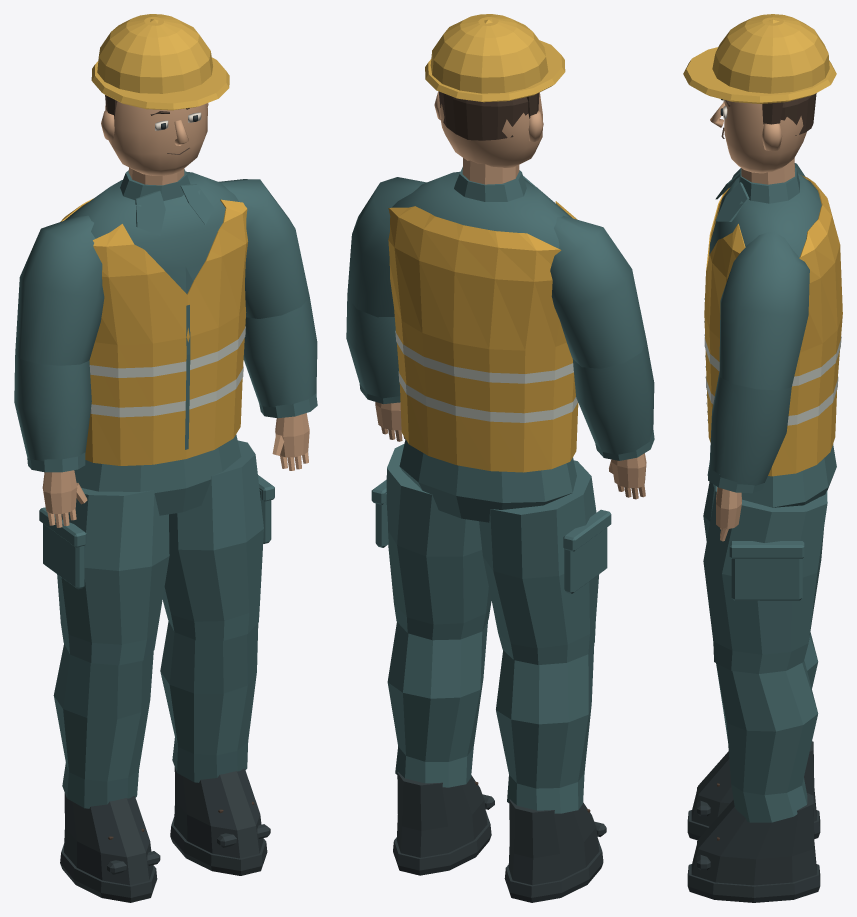
Rendered from standing-worker.glb.
3 renders of one model, left to right at view 1: azimuth 30°, elevation 25°; view 2: azimuth 150°, elevation 25°; view 3: azimuth 270°, elevation 25°, orthographic.
Parts seen in each view (by area): view 1: continuous_tailored_vest, full_work_trouser_thigh_L, full_work_trouser_thigh_R, folded_work_trouser_calf_L, folded_work_trouser_calf_R, continuous_shoulder_and_sleeve_L, hardhat_full_dome, shaped_shirt_torso, continuous_shoulder_and_sleeve_R, tapered_forearm_L, tapered_forearm_R, boot_upper (+18 smaller); view 2: continuous_tailored_vest, full_work_trouser_thigh_L, full_work_trouser_thigh_R, folded_work_trouser_calf_L, folded_work_trouser_calf_R, continuous_shoulder_and_sleeve_L, hardhat_full_dome, joined_trouser_hips, tapered_forearm_L, boot_upper, boot_upper.001, shaped_shirt_torso (+15 smaller); view 3: full_work_trouser_thigh_R, continuous_tailored_vest, folded_work_trouser_calf_R, continuous_shoulder_and_sleeve_R, boot_upper.001, hardhat_full_dome, tapered_forearm_R, shaped_shirt_torso, warm_sculpted_head, tailored_cargo_pocket_R, joined_trouser_hips, hardhat_rolled_brim (+16 smaller).
Boxes of the visible parts, box(x1,y1,x2,y2) form: continuous_tailored_vest: box(60, 198, 248, 465); full_work_trouser_thigh_L: box(57, 488, 169, 665); full_work_trouser_thigh_R: box(162, 440, 263, 640); folded_work_trouser_calf_L: box(53, 644, 153, 808); folded_work_trouser_calf_R: box(160, 621, 258, 782); continuous_shoulder_and_sleeve_L: box(15, 215, 104, 365); hardhat_full_dome: box(97, 14, 212, 93); shaped_shirt_torso: box(64, 171, 238, 293); continuous_shoulder_and_sleeve_R: box(218, 179, 309, 318); tapered_forearm_L: box(14, 354, 91, 461); tapered_forearm_R: box(243, 297, 317, 407); boot_upper: box(64, 793, 153, 885); continuous_tailored_vest: box(388, 201, 578, 472); full_work_trouser_thigh_L: box(479, 460, 599, 664); full_work_trouser_thigh_R: box(386, 444, 491, 640); folded_work_trouser_calf_L: box(496, 644, 594, 813); folded_work_trouser_calf_R: box(387, 621, 487, 787); continuous_shoulder_and_sleeve_L: box(550, 215, 646, 368); hardhat_full_dome: box(430, 14, 548, 93); joined_trouser_hips: box(399, 439, 576, 522); tapered_forearm_L: box(572, 341, 654, 454); boot_upper: box(508, 799, 599, 885); boot_upper.001: box(396, 772, 487, 857); shaped_shirt_torso: box(392, 171, 572, 248); full_work_trouser_thigh_R: box(703, 485, 827, 673); continuous_tailored_vest: box(704, 175, 842, 476); folded_work_trouser_calf_R: box(716, 660, 818, 822); continuous_shoulder_and_sleeve_R: box(719, 232, 809, 390); boot_upper.001: box(691, 793, 816, 885); hardhat_full_dome: box(712, 14, 829, 93); tapered_forearm_R: box(709, 371, 791, 485); shaped_shirt_torso: box(709, 173, 821, 256); warm_sculpted_head: box(724, 100, 806, 173); tailored_cargo_pocket_R: box(731, 559, 802, 600); joined_trouser_hips: box(713, 444, 836, 507); hardhat_rolled_brim: box(683, 47, 836, 103).
Size of the model in its own units: 0.6228 by 1.7 by 0.293.
